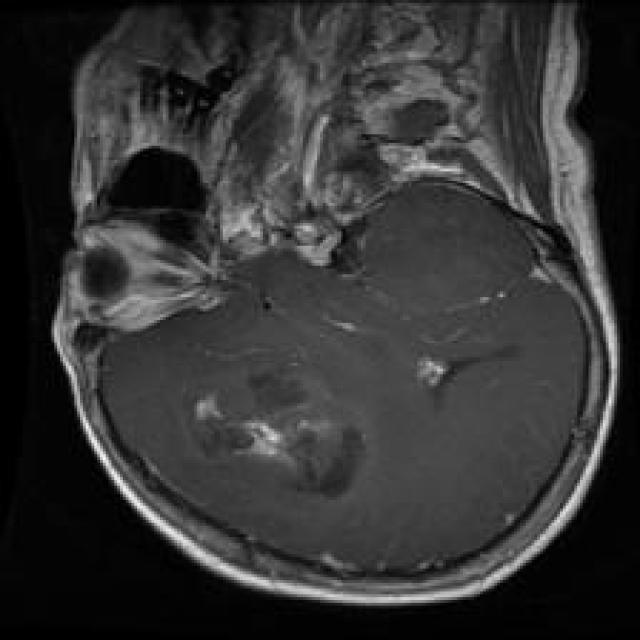glioma_tumor: (170, 356, 372, 513)
